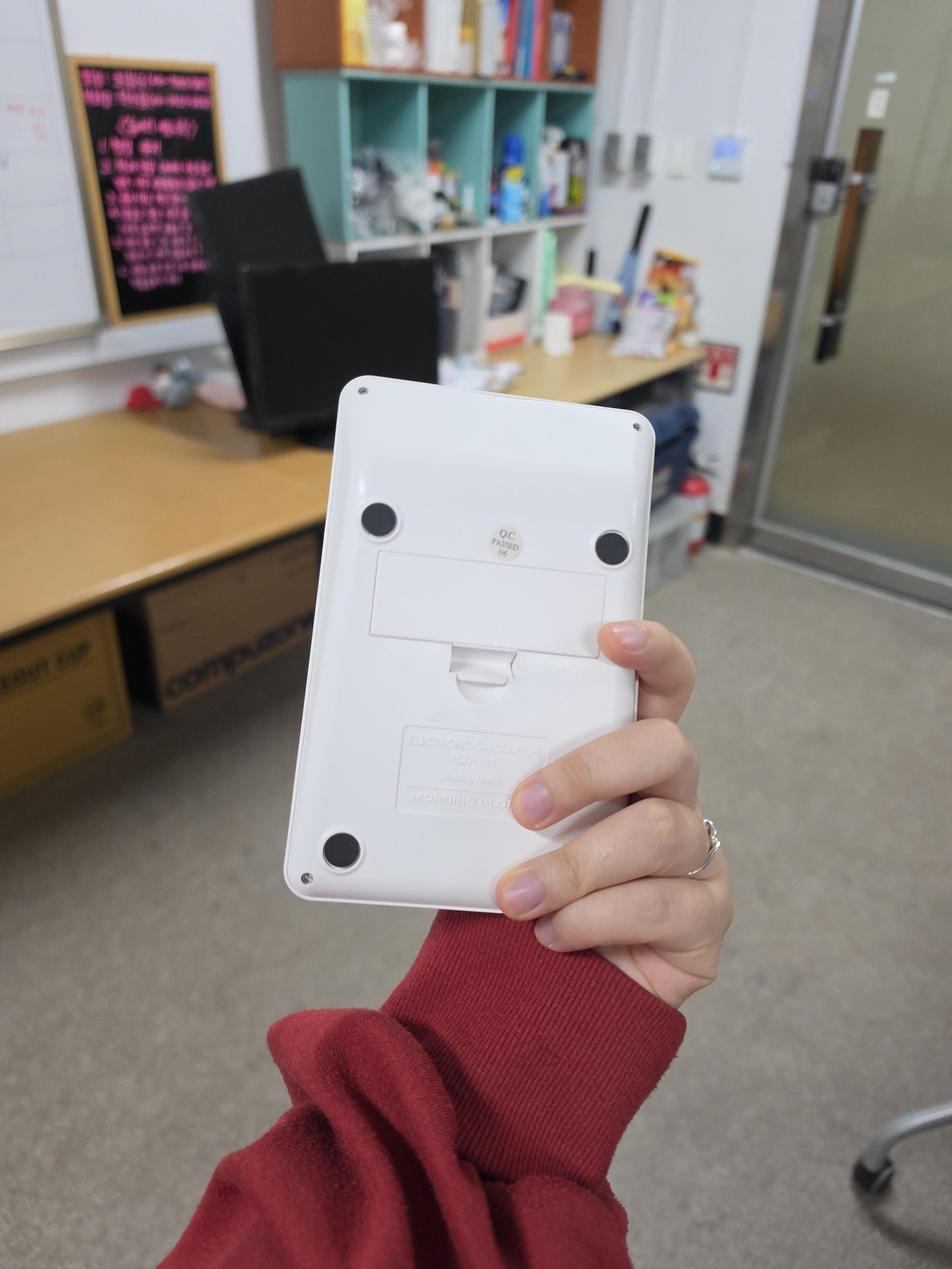calculator: (283, 376, 656, 915)
